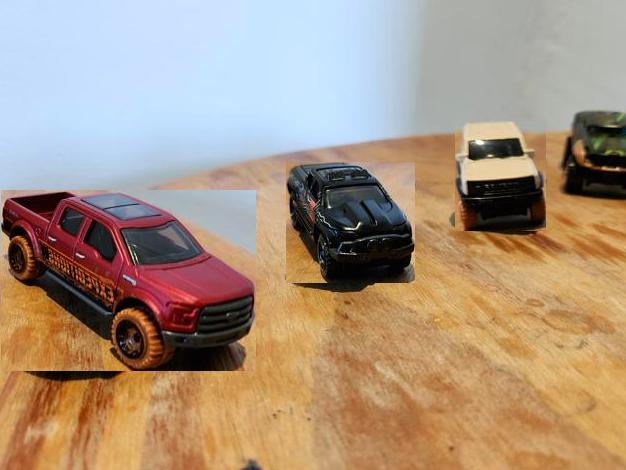toy-car: (1, 190, 256, 371), (287, 163, 416, 284), (456, 121, 547, 231)
